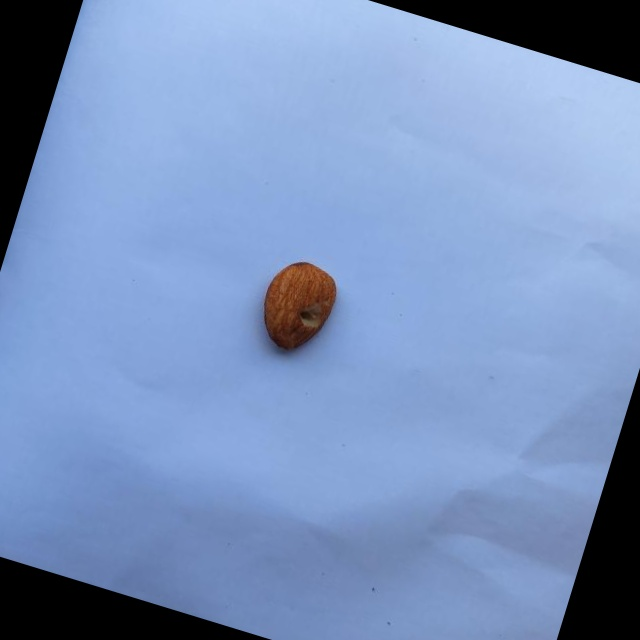grade3: (249, 249, 350, 365)
